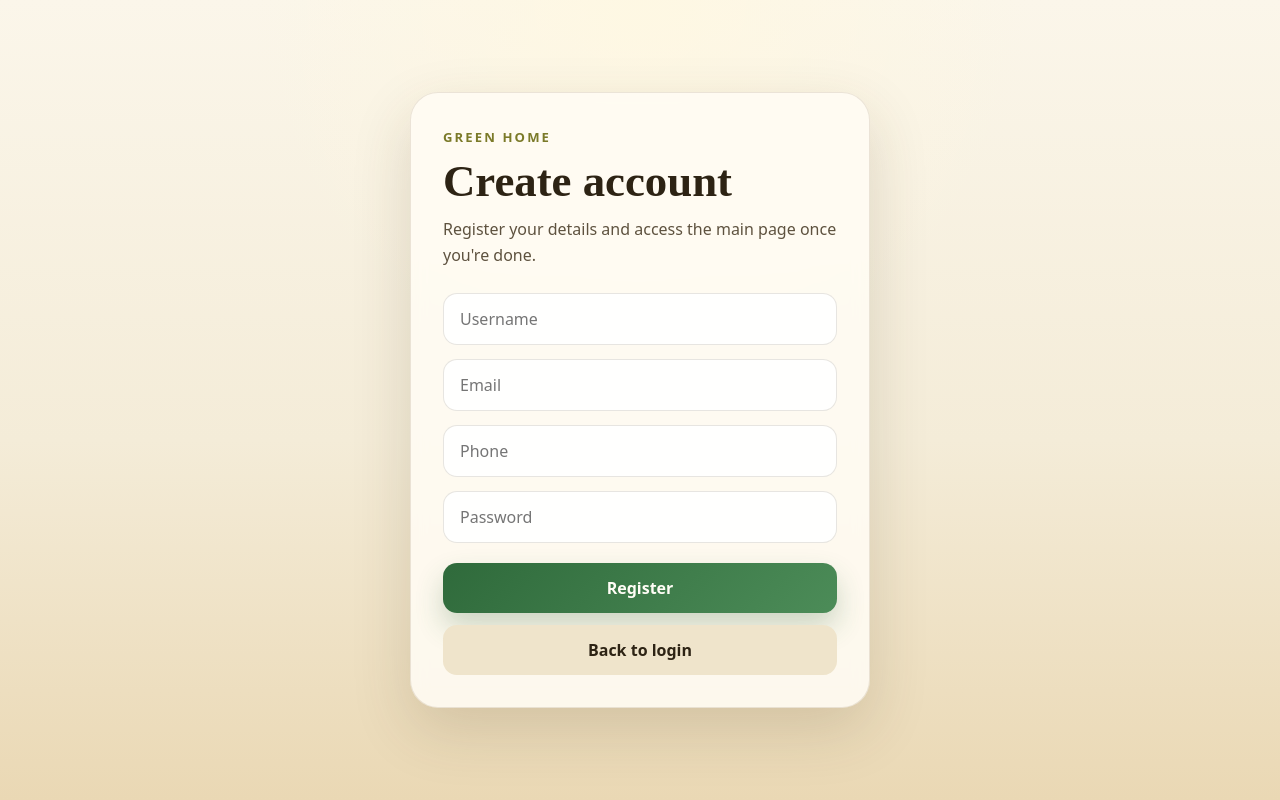
it: Register › shows fallback error when server returns no body
Step 1. Click the button "Register" → click(640, 588), box x1=443 y1=563 x2=837 y2=613
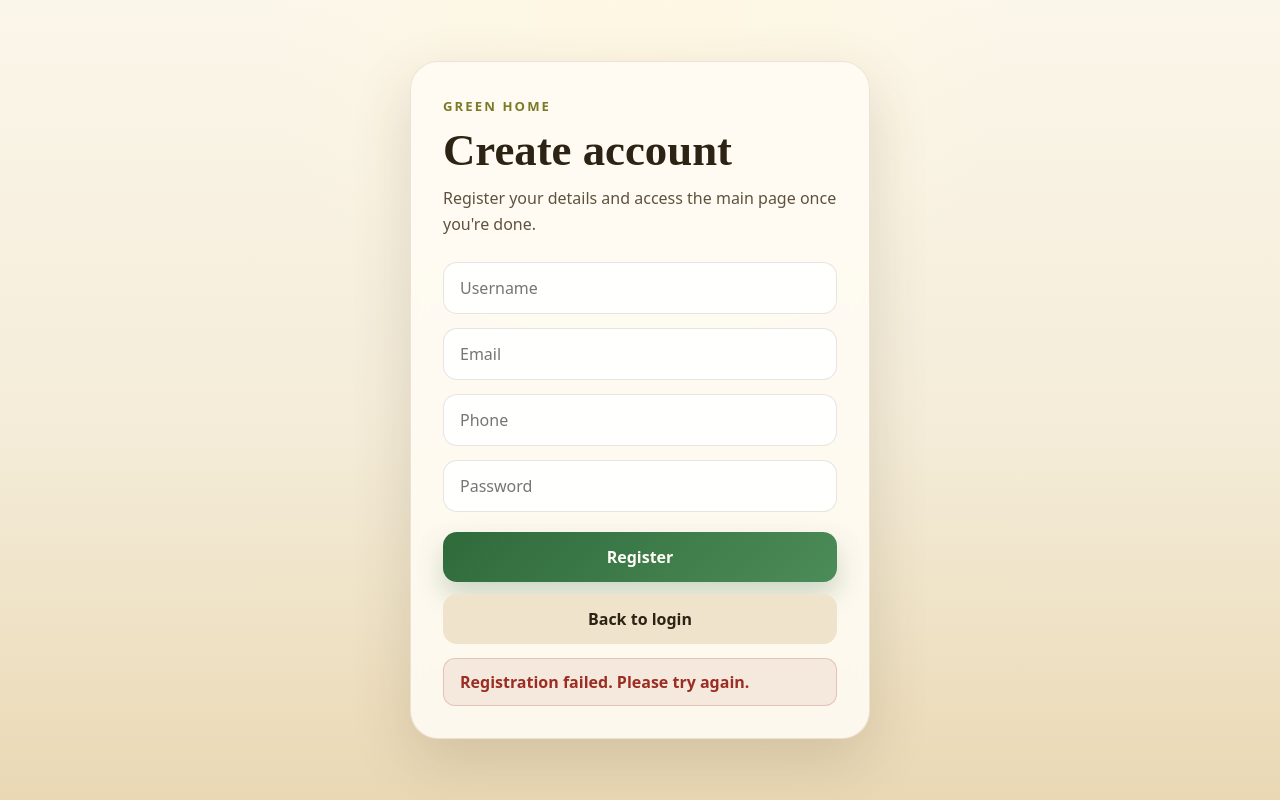
expect the text "Registration failed. Please try again." is shown: met, box x1=443 y1=658 x2=837 y2=706
